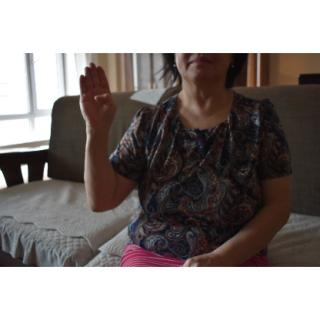KAAF: (74, 60, 119, 146)
